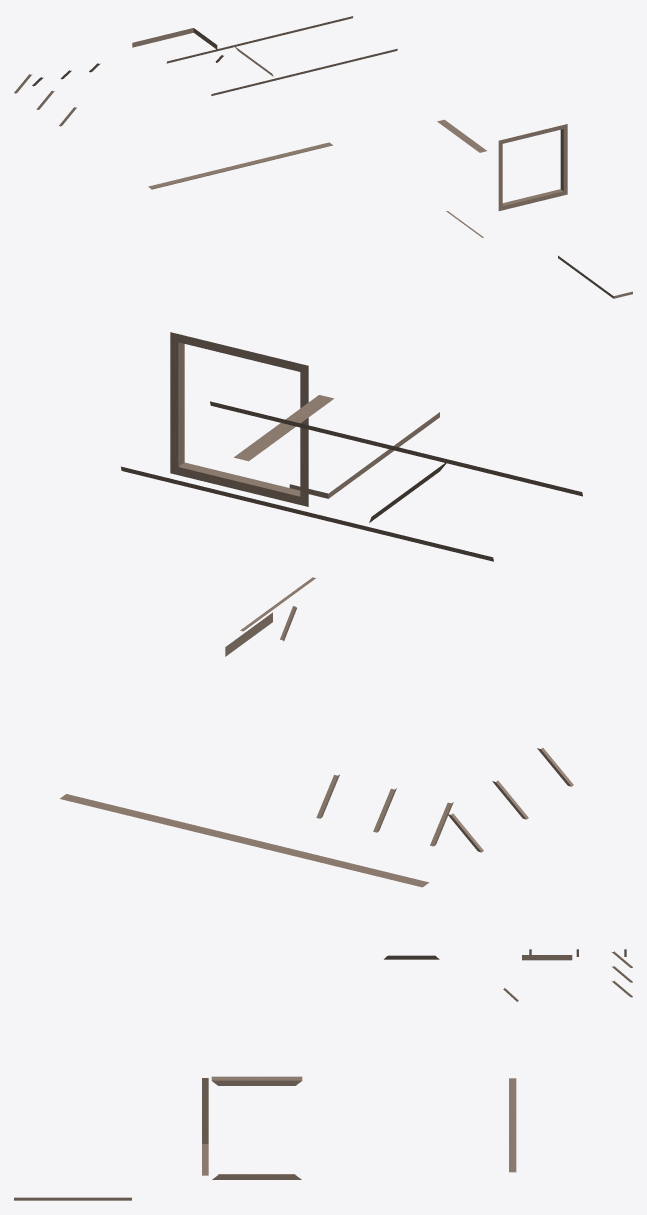
Rendered from kd_stage_135ded_4_18_bounded.glb.
3 renders of one model, top to bottom at view 1: azimuth 30°, elevation 25°; view 2: azimuth 150°, elevation 25°; view 3: azimuth 270°, elevation 25°, orthographic. The views are drawn at different scales.
Parts seen in each view (by area): view 1: kd_stage_135ded_4_18_bounded; view 2: kd_stage_135ded_4_18_bounded; view 3: kd_stage_135ded_4_18_bounded.
Part boxes in pixels (box(x1,y1,x2,y2)): kd_stage_135ded_4_18_bounded: box(14, 16, 632, 298); kd_stage_135ded_4_18_bounded: box(60, 332, 582, 887); kd_stage_135ded_4_18_bounded: box(14, 949, 632, 1200).
Size of the model in its own units: 6.89 by 2.81 by 9.88.
1 material, 1 textured.
